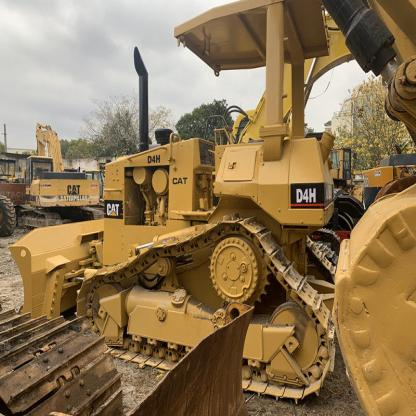bull_dozer/loader/grader: (17, 4, 376, 415)
